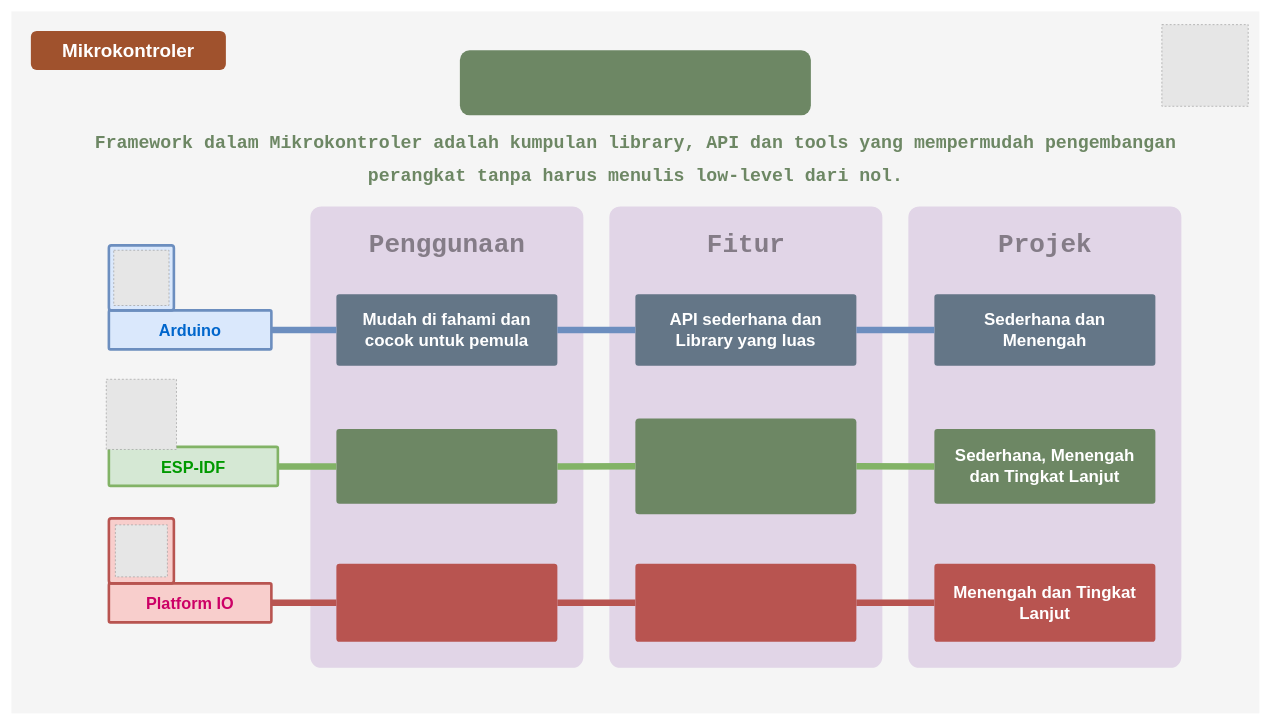
Some shapes in this 1270 by 724 pixel diagram are drawn without their labels. Grey dashed boxes stand in for pictures. The shapes that lost their labels are listed below. From the top down, each one's centre as x and y in pixels, then its label:
(x=635, y=82): Memilih Framework
(x=446, y=466): Kompleks dan Perlu pemahaman RTOS
(x=745, y=466): Kontrol penuh hardware dan dukungan FreeRTOS
(x=446, y=603): Fleksibel dan Lintas Platform
(x=745, y=603): Multi-framework dan Menegement Library
